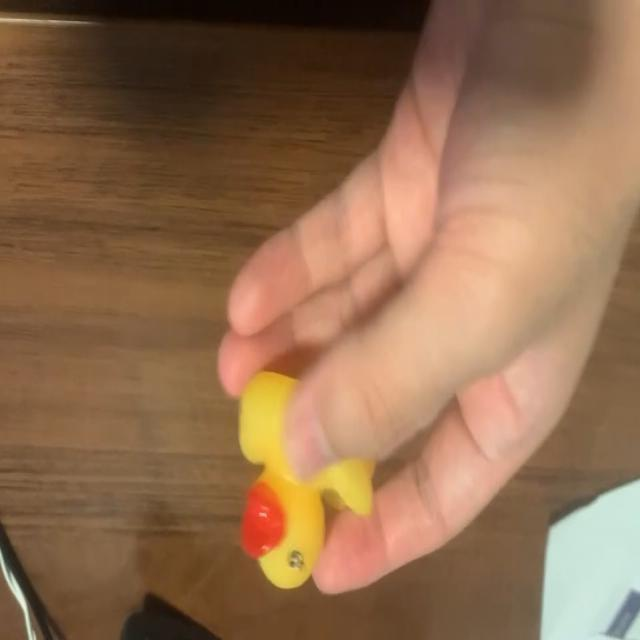rubber-duck: (238, 371, 372, 587)
